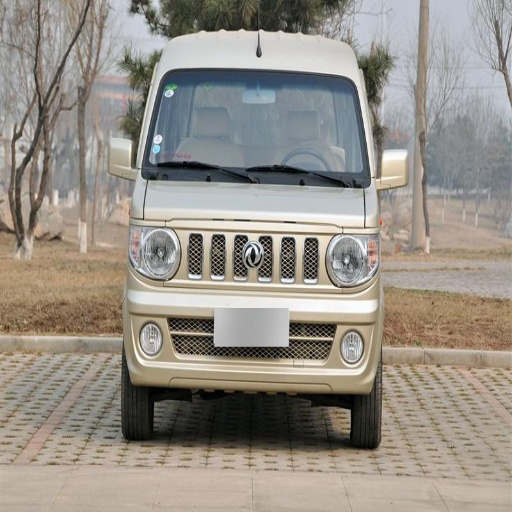front_bumper: (130, 221, 382, 384)
front_right_light: (131, 230, 178, 275)
hood: (134, 180, 365, 233)
